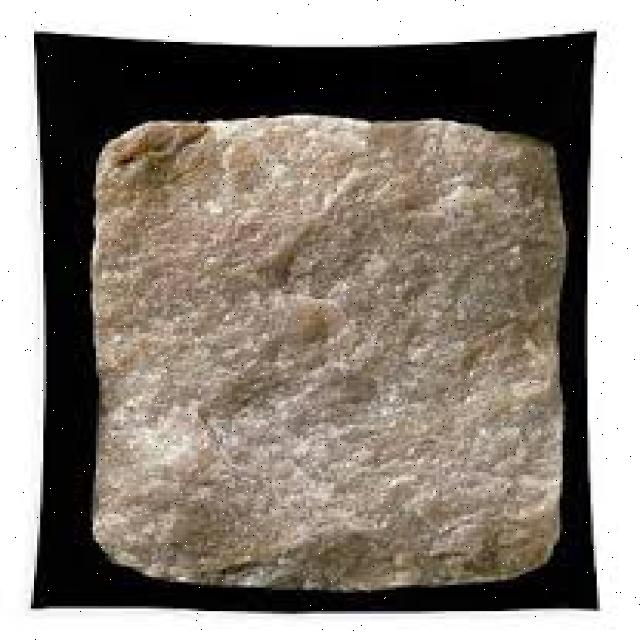Metamorphic: (83, 108, 569, 582)
